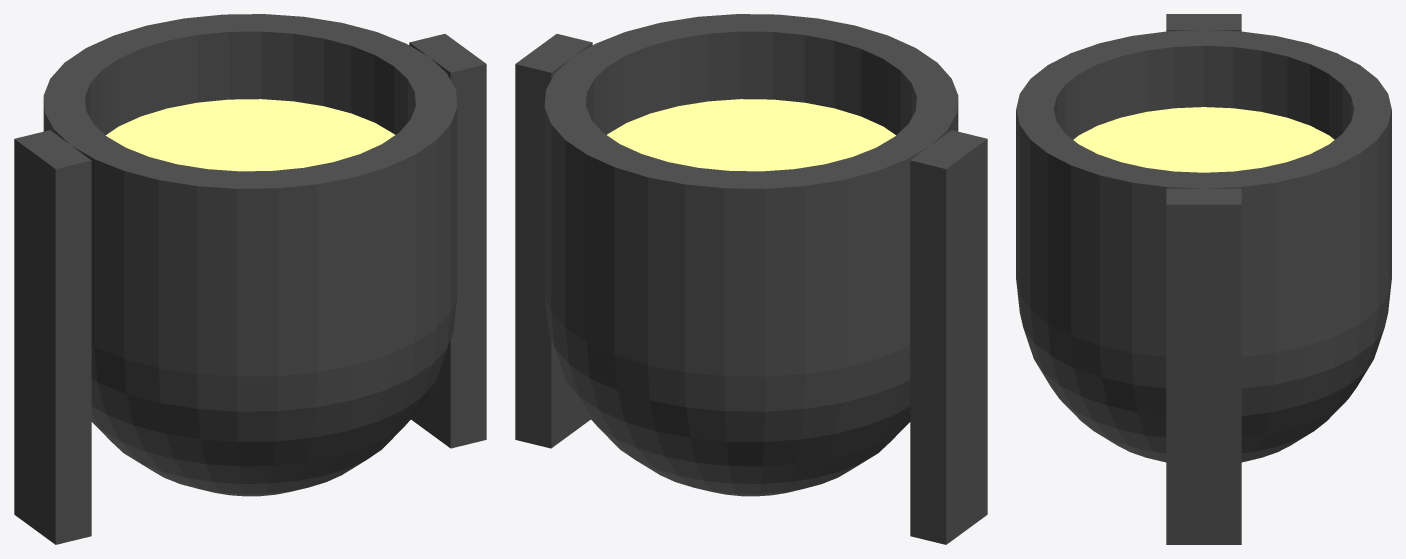
Rendered from steel_furnace.glb.
3 views of the same model, side by side, from view 1: azimuth 30°, elevation 25°; view 2: azimuth 150°, elevation 25°; view 3: azimuth 270°, elevation 25° (orthographic). The views are drawn at different scales.
Parts seen in each view (by area): view 1: Sphere, Cube.001, Cube, Sphere.001; view 2: Sphere, Cube.001, Cube, Sphere.001; view 3: Sphere, Cube, Sphere.001, Cube.001.
Part boxes in pixels (left/top/right/bottom): Sphere: left=43, top=14, right=457, bottom=496; Cube.001: left=14, top=130, right=91, bottom=544; Cube: left=409, top=34, right=486, bottom=448; Sphere.001: left=106, top=99, right=394, bottom=171; Sphere: left=544, top=14, right=958, bottom=496; Cube.001: left=910, top=130, right=987, bottom=544; Cube: left=515, top=34, right=592, bottom=448; Sphere.001: left=607, top=99, right=895, bottom=171; Sphere: left=1016, top=30, right=1391, bottom=462; Cube: left=1166, top=188, right=1241, bottom=544; Sphere.001: left=1073, top=107, right=1334, bottom=172; Cube.001: left=1166, top=14, right=1241, bottom=31.
Bounding box in the file's own units: 2.4 × 2 × 2.
